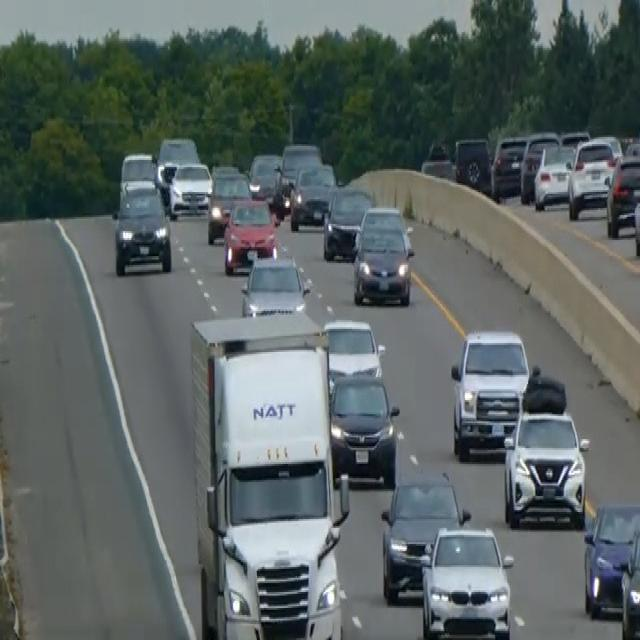car: (379, 469, 470, 603), (419, 523, 514, 638), (450, 327, 530, 461), (502, 405, 589, 528), (329, 370, 399, 485), (582, 499, 639, 618), (351, 202, 414, 306), (112, 178, 172, 276), (240, 252, 310, 316), (222, 196, 278, 274), (323, 316, 385, 386), (567, 137, 618, 219), (322, 183, 372, 261), (206, 165, 252, 242), (289, 160, 337, 231), (519, 130, 560, 202), (533, 140, 575, 210), (605, 151, 639, 237), (277, 140, 322, 201), (619, 512, 639, 638), (168, 160, 212, 217), (490, 133, 527, 199), (118, 150, 160, 204), (453, 135, 492, 192), (157, 134, 199, 182), (247, 149, 282, 201), (420, 138, 452, 180), (632, 181, 639, 258)
lorry: (188, 310, 351, 638)
